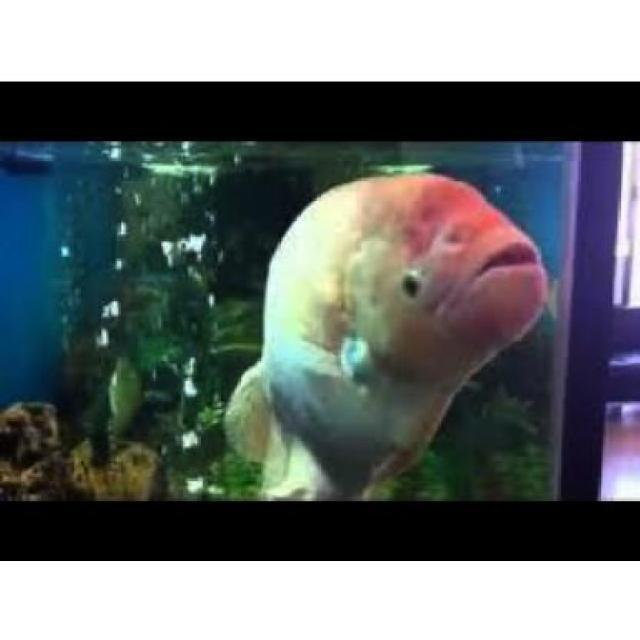gurame: (219, 176, 550, 498)
